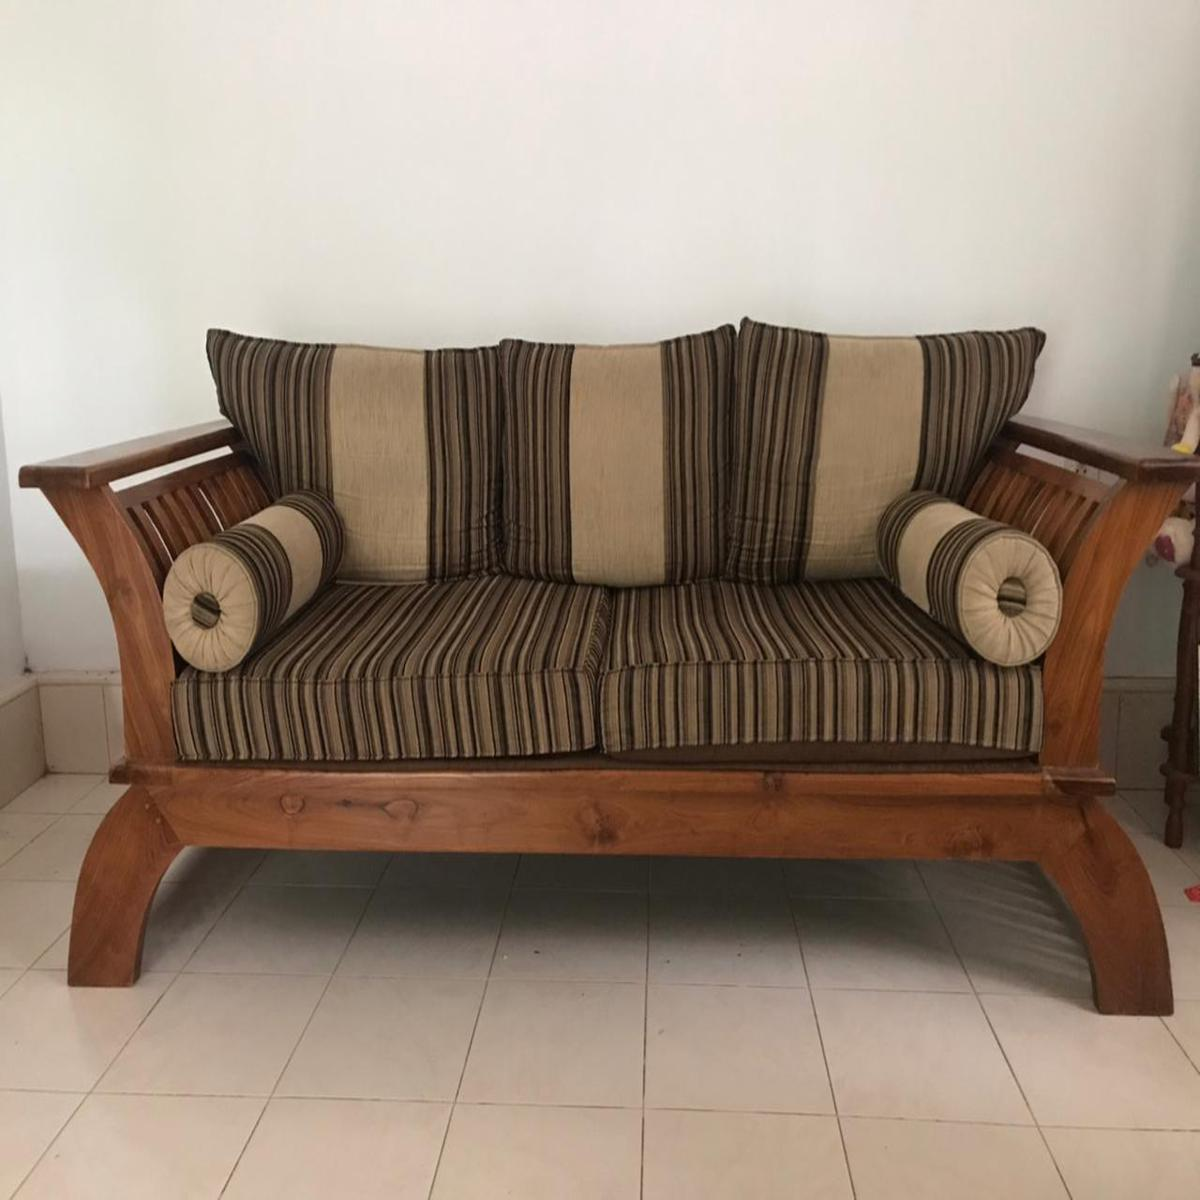Sofa: (18, 317, 1187, 1022)
